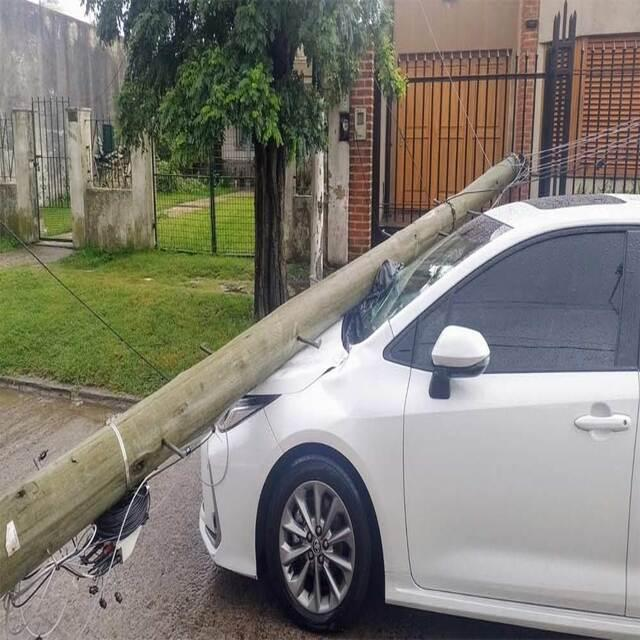Inclined Pole: (0, 153, 525, 604)
